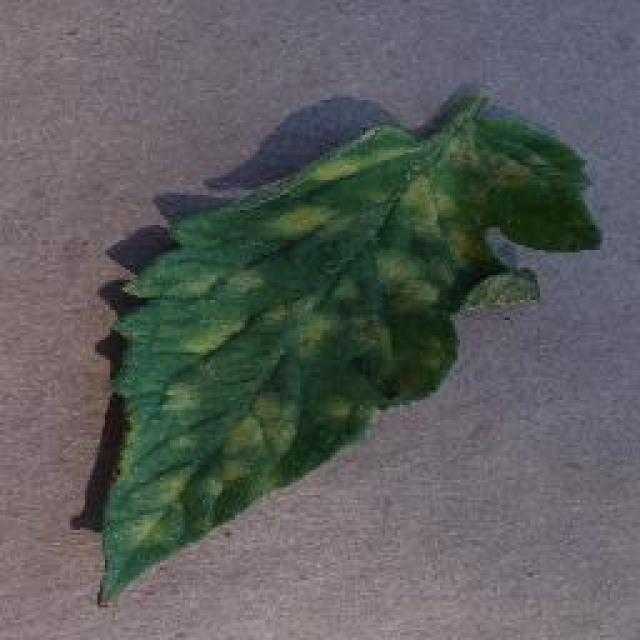Tomato___Leaf_Mold: (100, 95, 600, 598)
